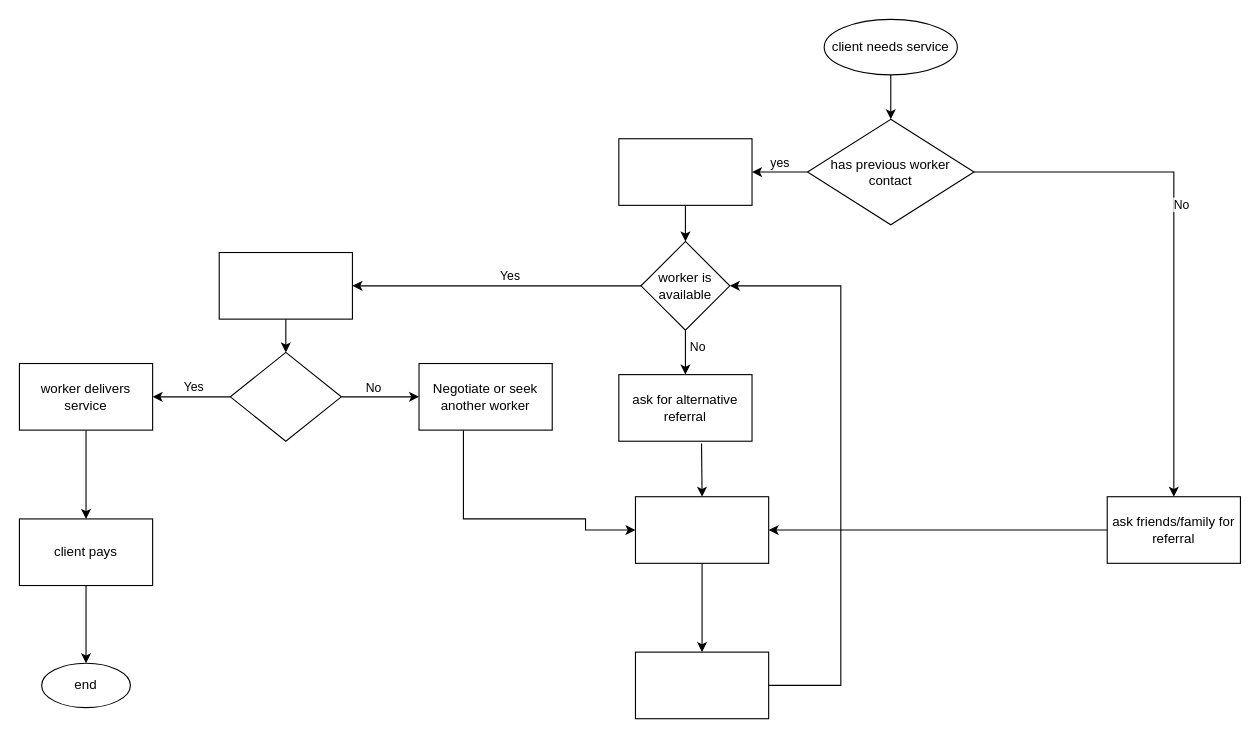
Some shapes in this 1260 by 738 pixel diagram are drawn without their labels. The shapes that lost their labels are listed below. From the top down, each one's centre as x and y in pixels, then its label:
At pixel 685 171: "contact worker directly".
At pixel 285 285: "agreeon price and schedule".
At pixel 285 396: "price agreed?".
At pixel 701 529: "Receive worker contact".
At pixel 701 685: "Call worker to enquire".
